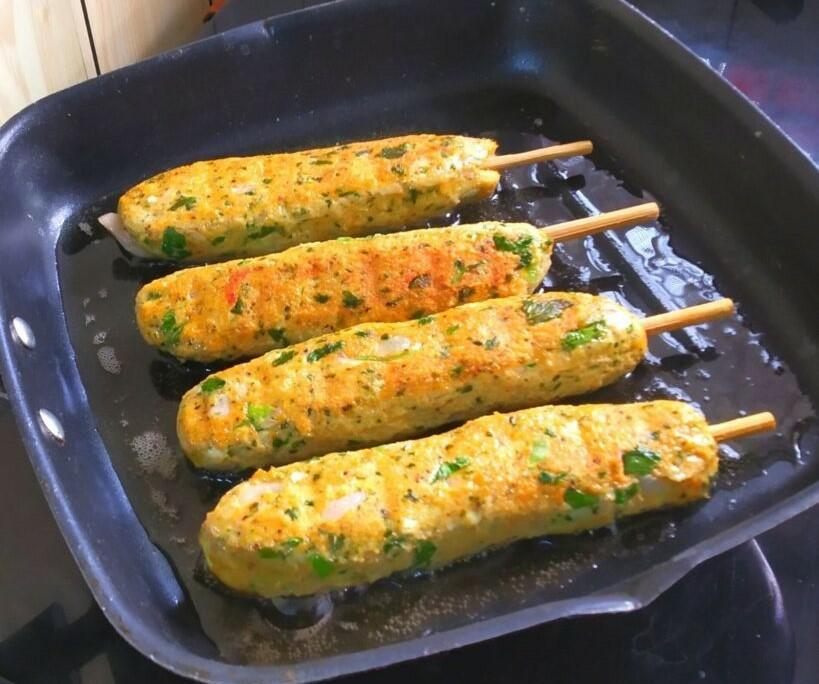Kebab: (202, 402, 717, 601), (177, 293, 648, 467), (137, 221, 550, 356), (118, 134, 500, 261)
